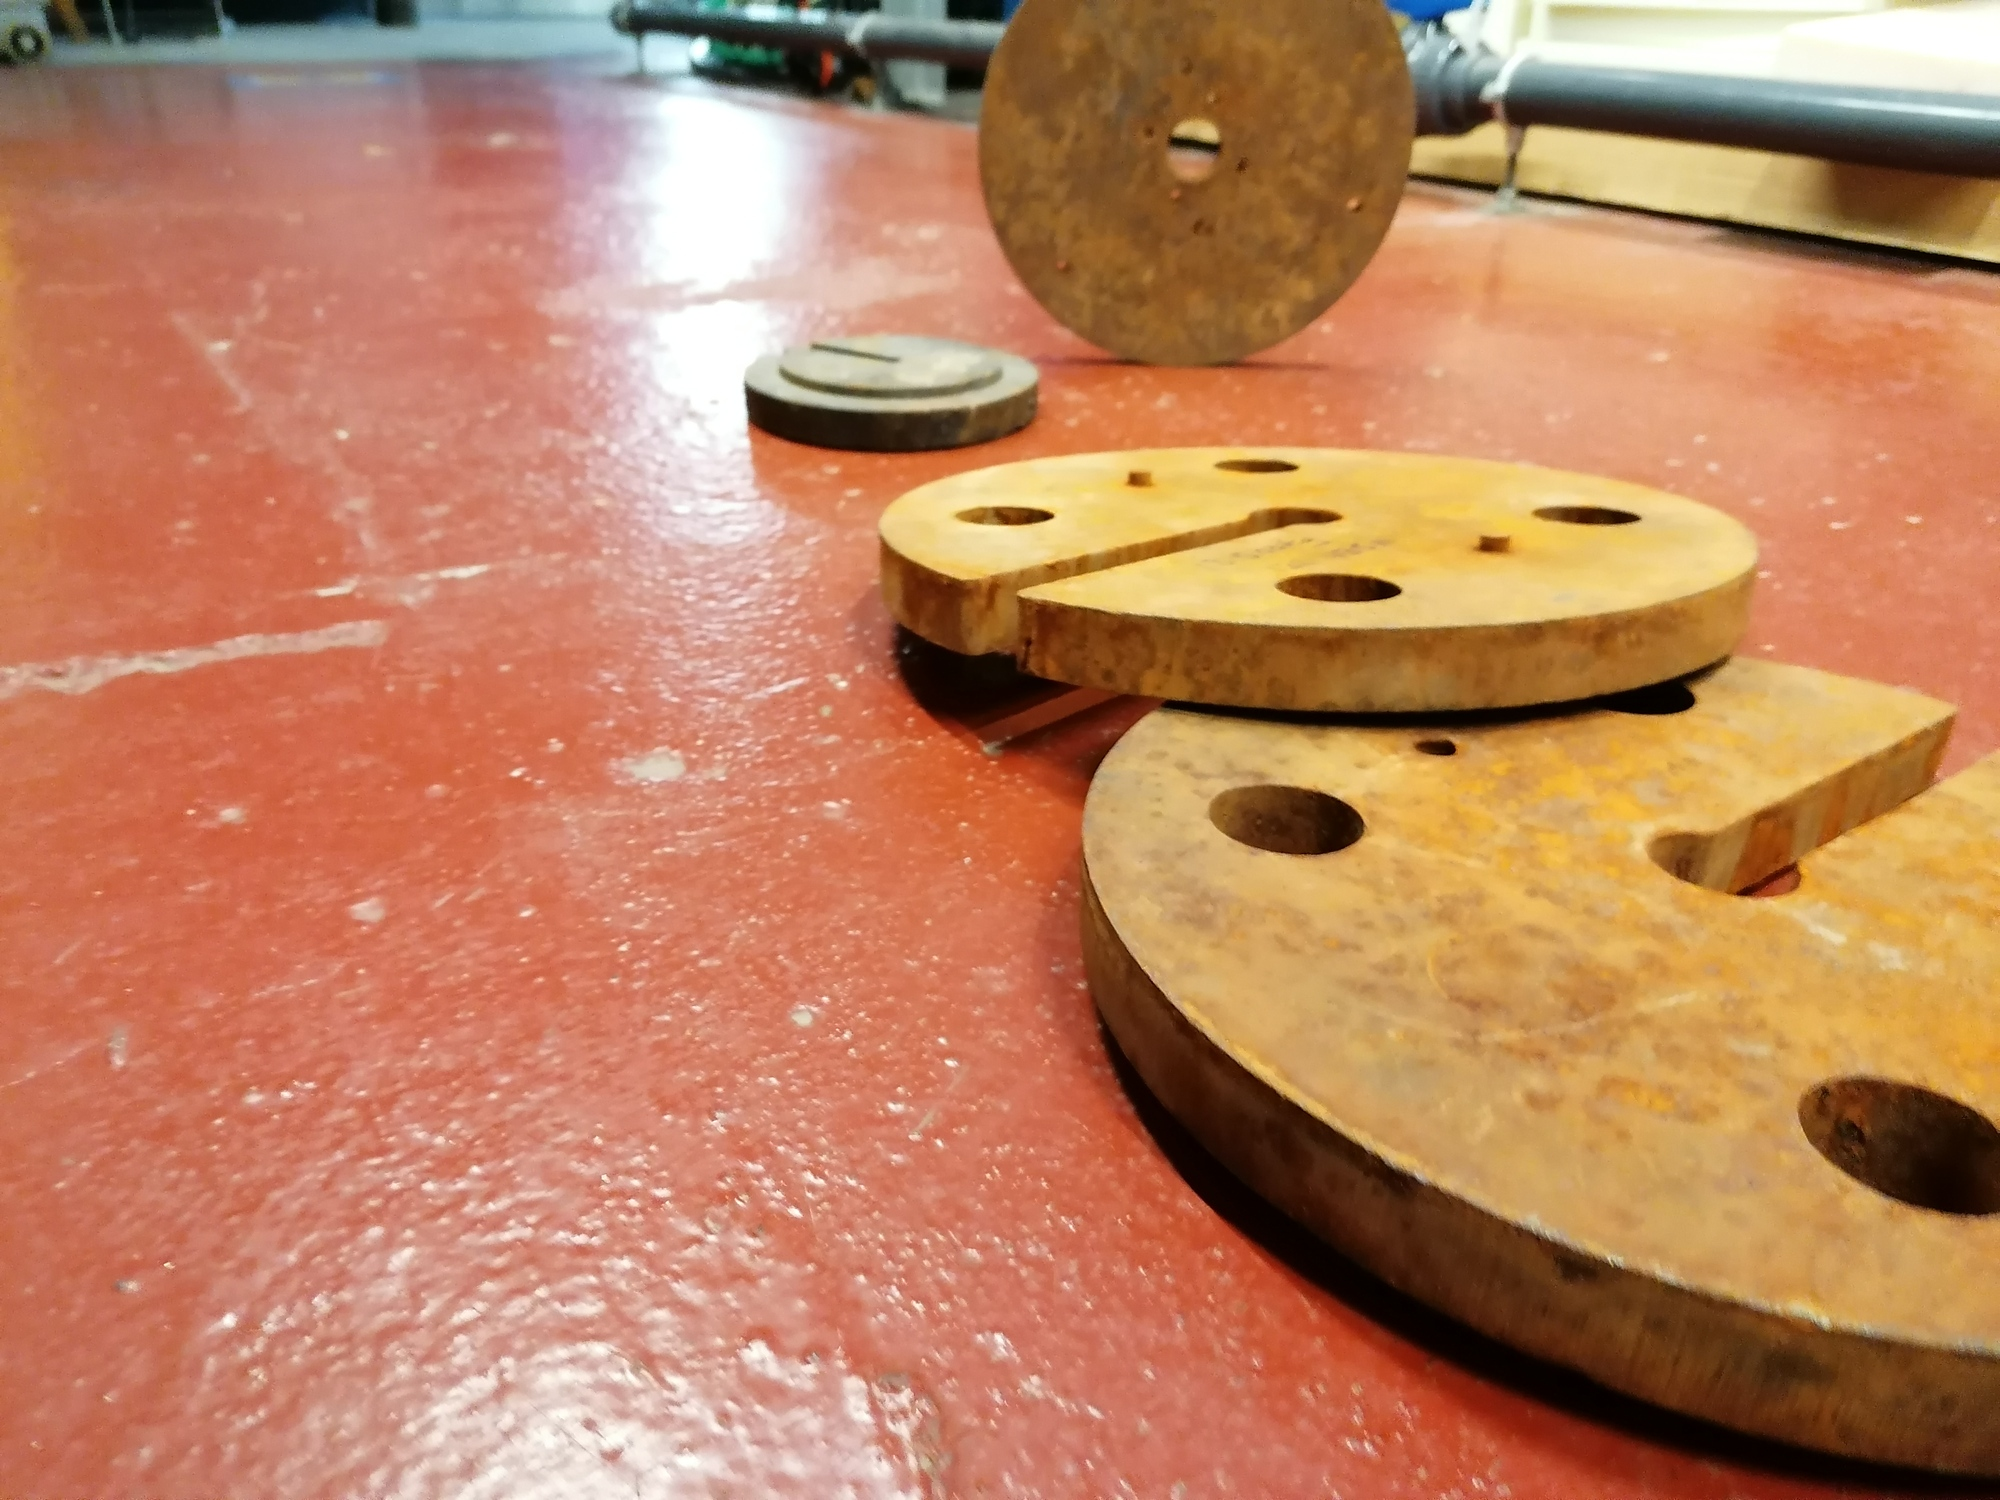flange: (1079, 654, 2000, 1476), (879, 443, 1764, 711), (978, 0, 1416, 366), (745, 331, 1041, 451)
